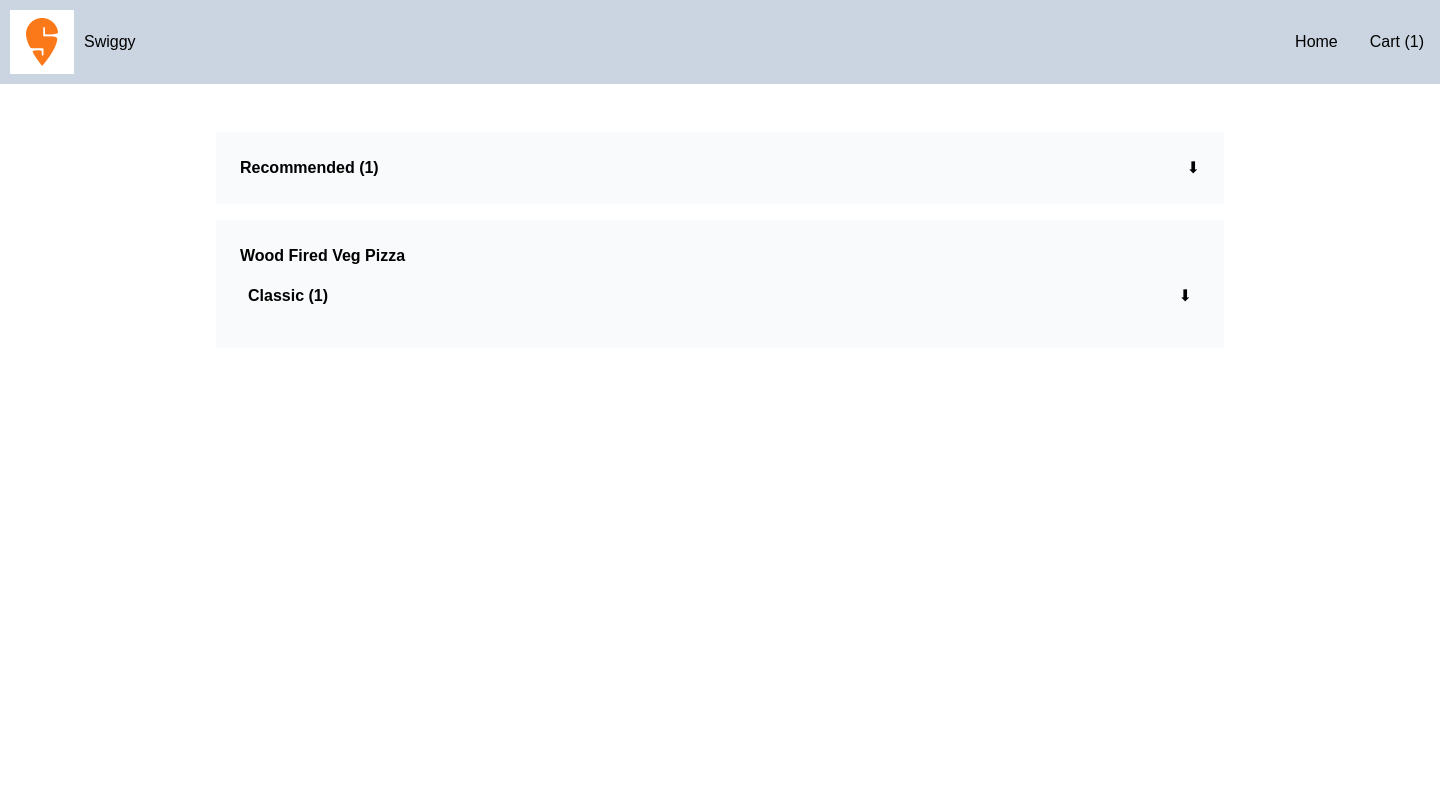
Should validate remove cart items
Click the heading "Classic (1)". click: [288, 296]
box: left=248, top=284, right=328, bottom=308
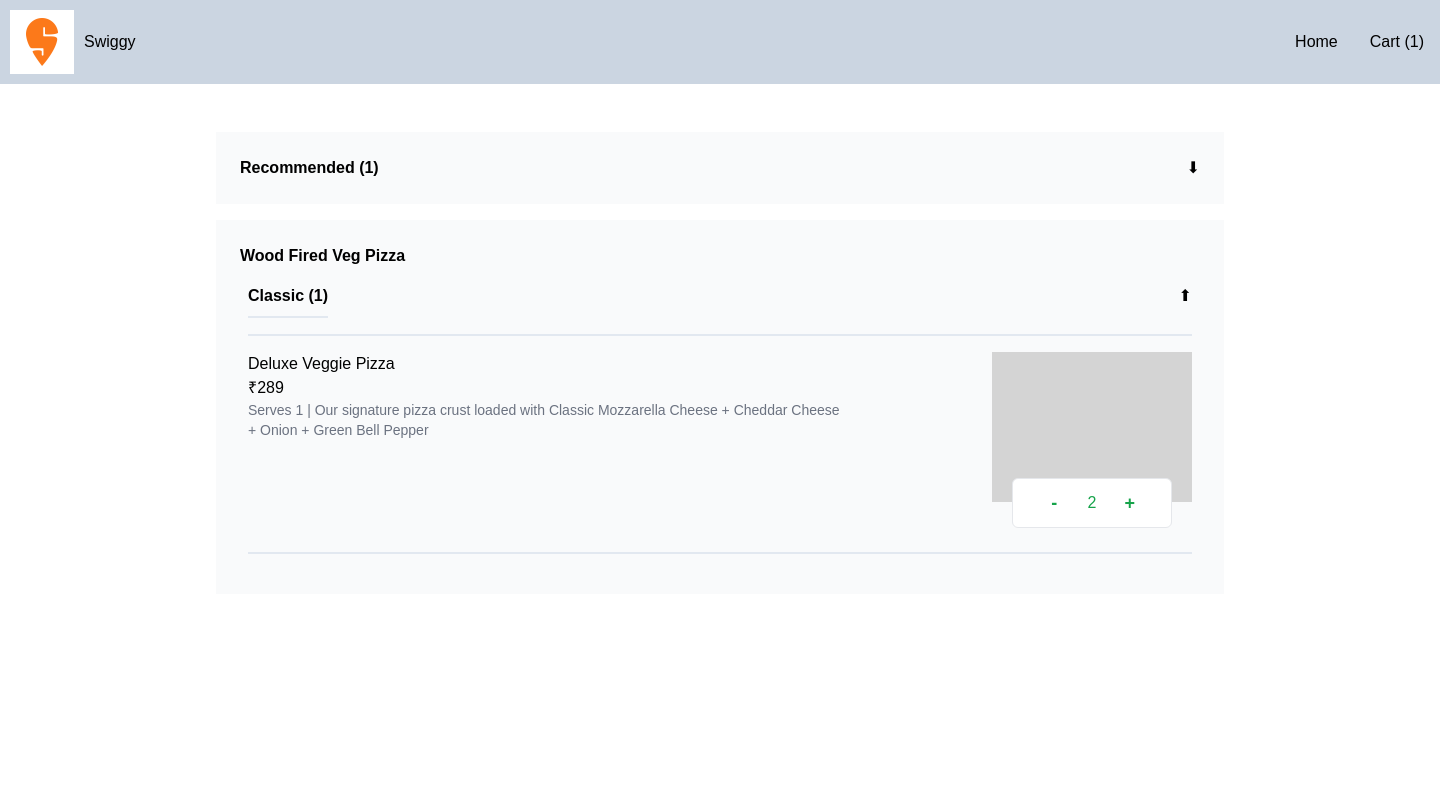
Result: the button "-" is shown
Click the button "-". click: [1054, 503]
box: left=1038, top=487, right=1070, bottom=519
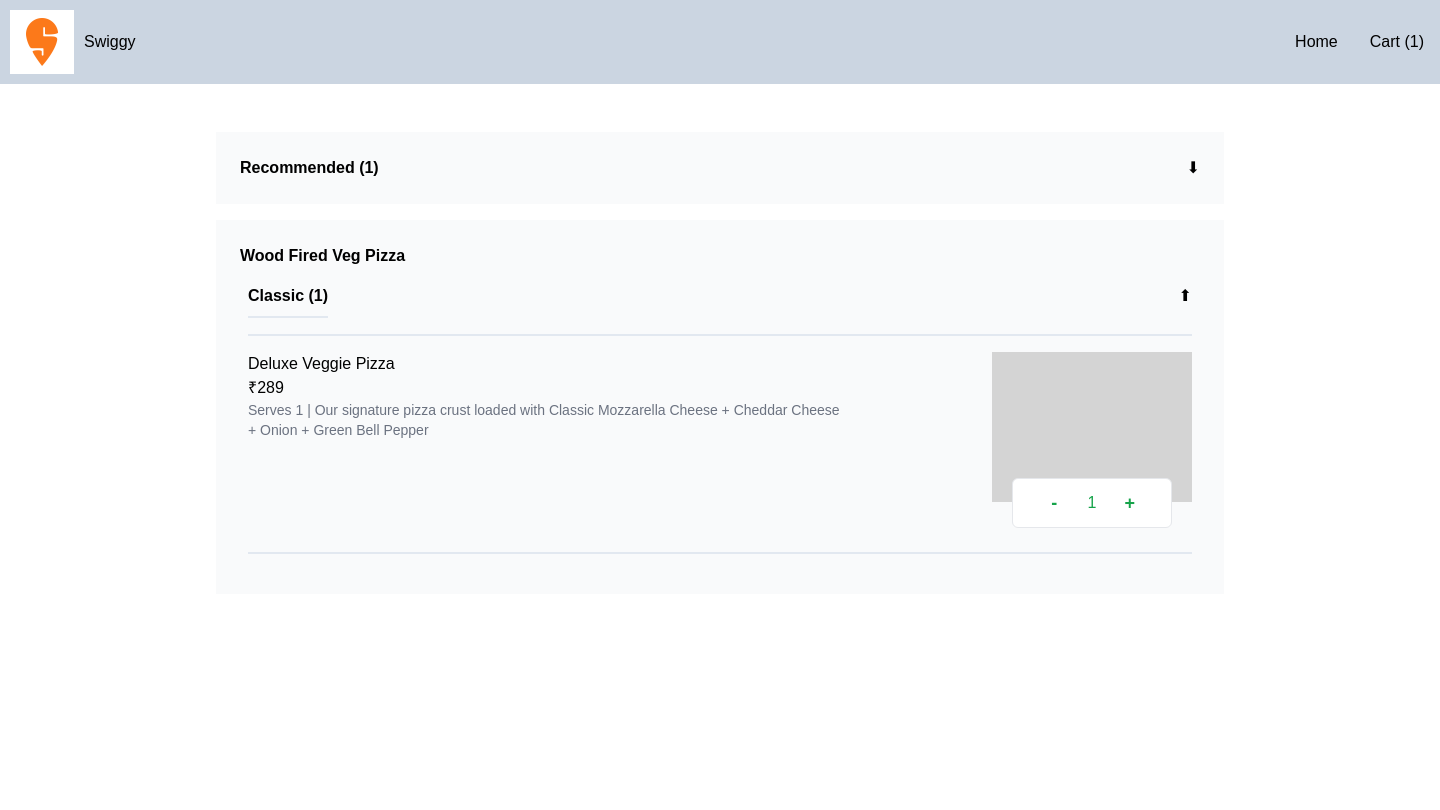
Result: the text with test id "item-quantity" reads "1" at left=1088, top=494, right=1096, bottom=511
Click the button "-". click: [1054, 503]
box: left=1038, top=487, right=1070, bottom=519
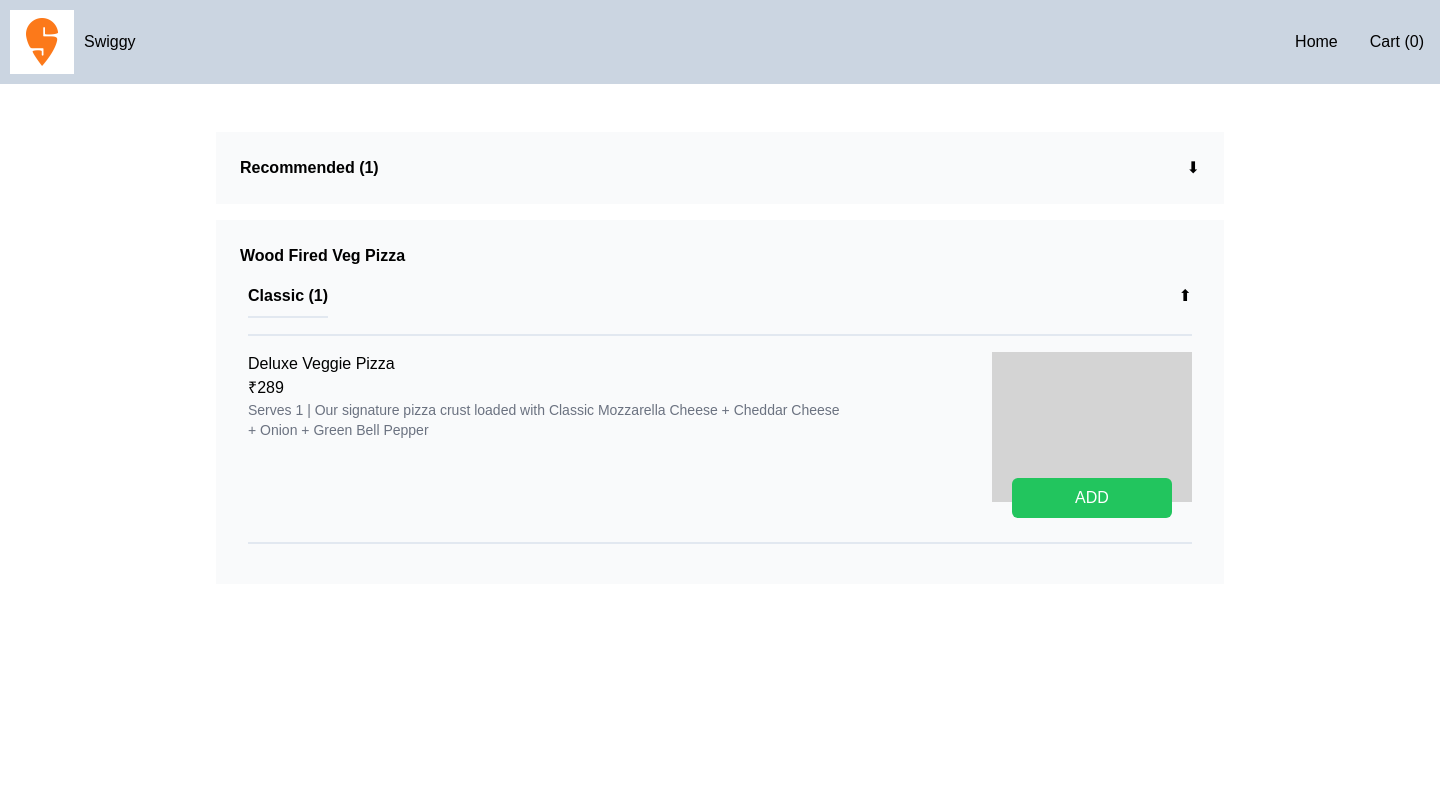
Result: no elements with test id "item-quantity" are shown
Result: the button "Add" is shown at left=1012, top=478, right=1172, bottom=518
Result: the menu item "Cart (0)" is shown at left=1370, top=33, right=1424, bottom=50
